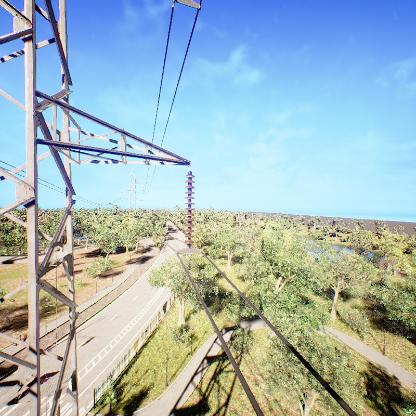insulator: (184, 172, 196, 248)
